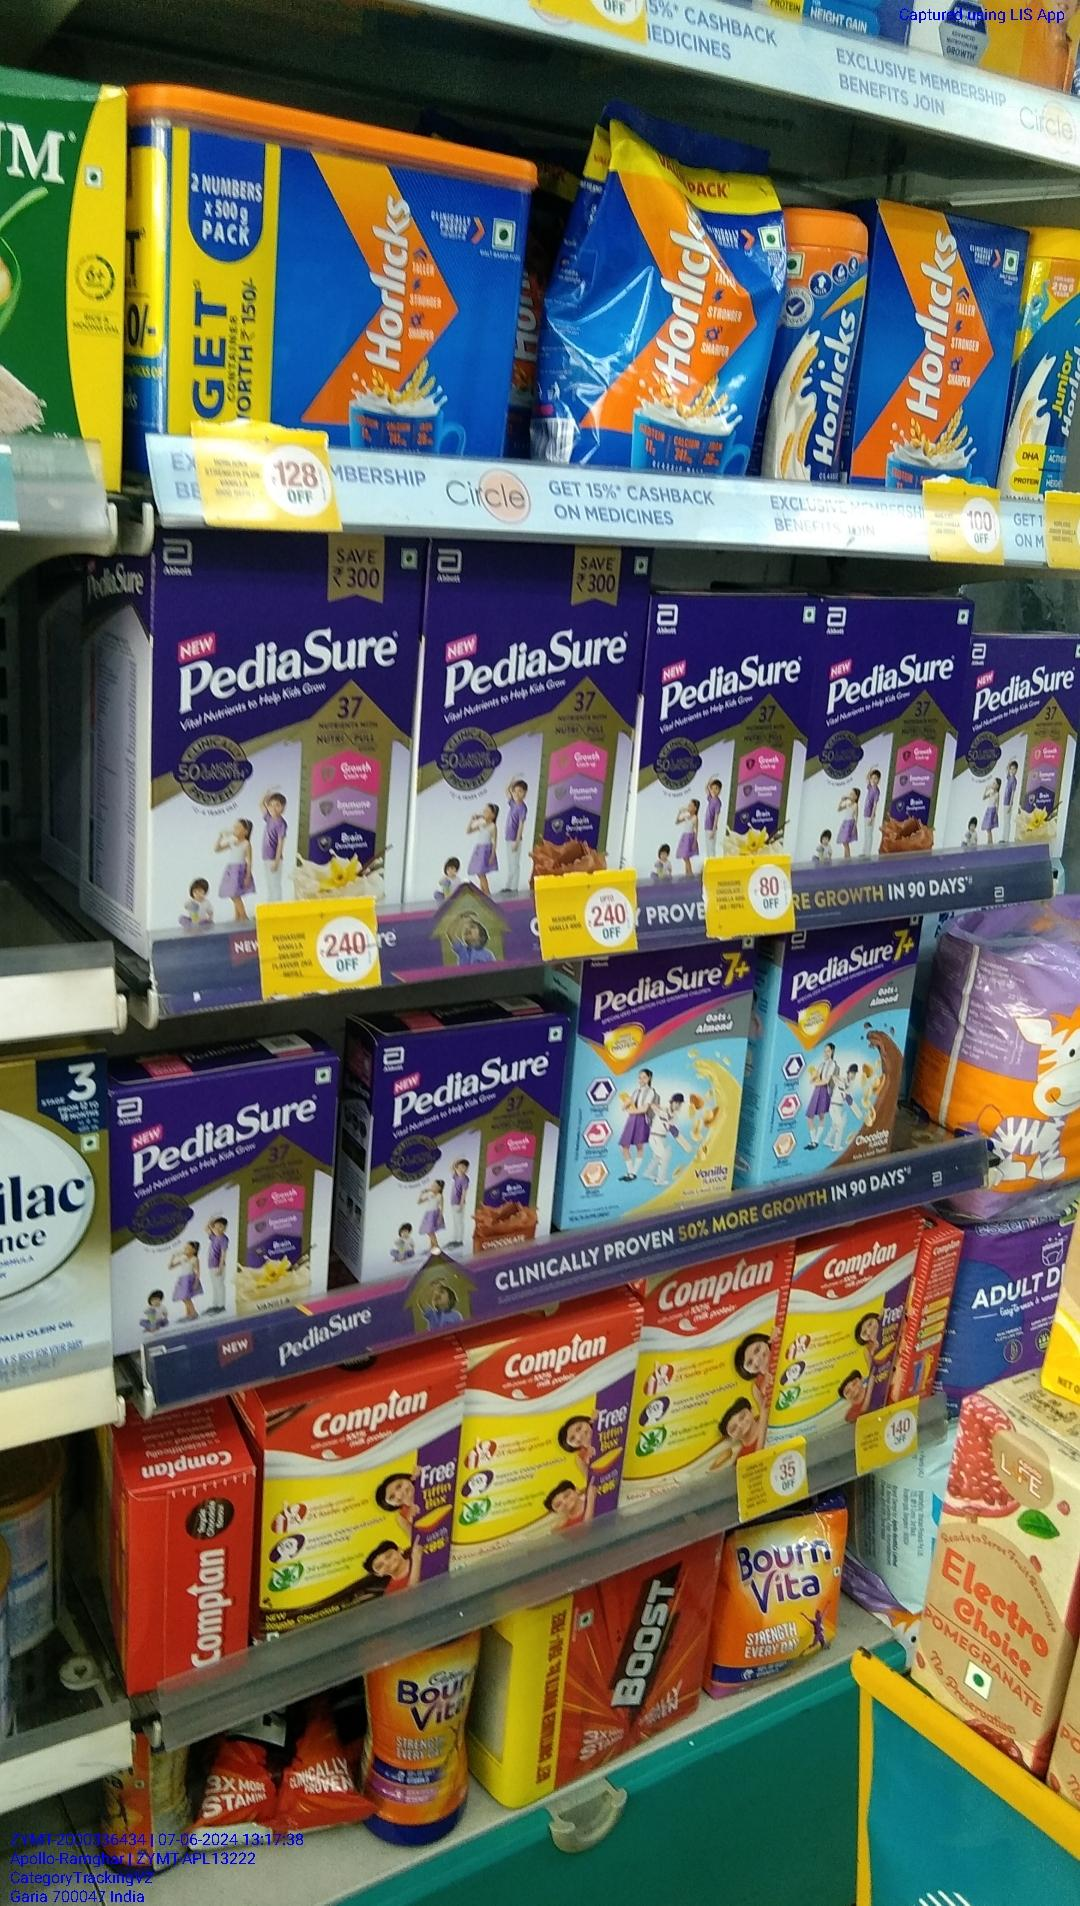HORLICK_CLASSIC_MALT_500_G_JAR: (768, 220, 869, 484)
HORLICK_CLASSIC_MALT_500_G_PACK: (864, 234, 1029, 475)
HORLICK_CLASSIC_MALT_750_G_POUCH: (577, 140, 753, 478)
HORLICK_MALT_1_KG_CONTAINER: (157, 141, 522, 462)
PEDIASURE_7_PLUS_CHOCOLATE_400_G_PACK: (775, 910, 929, 1190)
PEDIASURE_CHOCOLATE_500_G_PACK: (425, 547, 624, 873), (373, 1021, 554, 1241), (814, 593, 962, 860)
PEDIASURE_VANILLA_500_G_PACK: (144, 537, 398, 902), (115, 1030, 335, 1321), (647, 590, 797, 877), (974, 640, 1072, 846)
